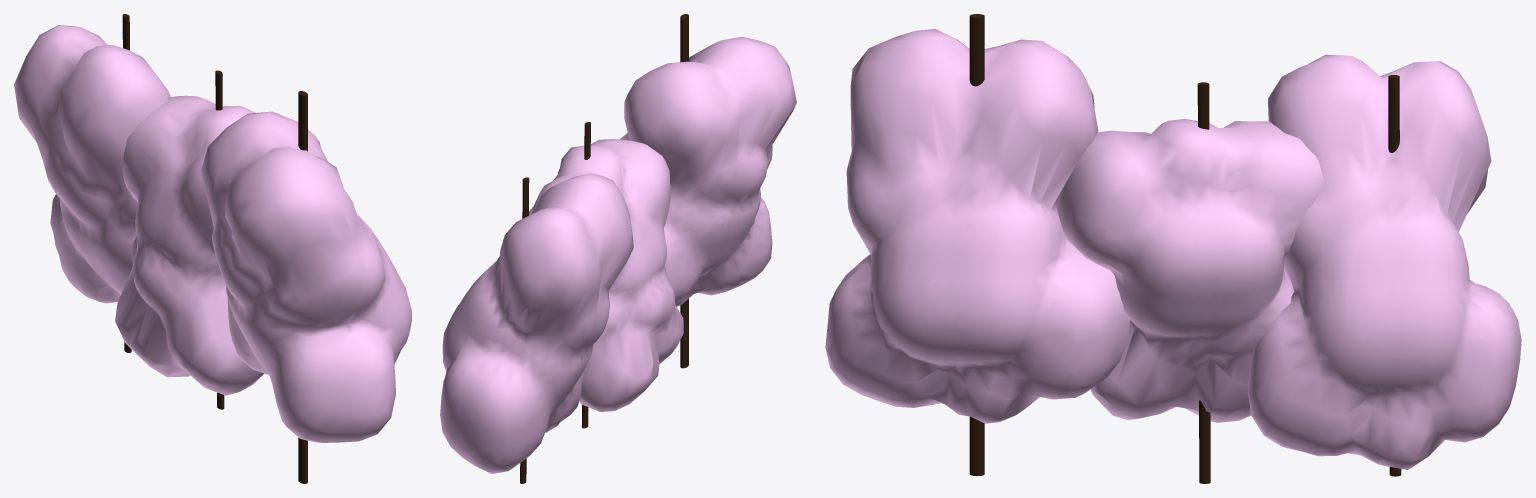
The model's file is Maze wall Jelly World.fbx.
3 renders of one model, left to right at view 1: azimuth 30°, elevation 25°; view 2: azimuth 150°, elevation 25°; view 3: azimuth 270°, elevation 25°, orthographic. The views are drawn at different scales.
Parts seen in each view (by area): view 1: polySurface8, polySurface13, polySurface12, polySurface9, polySurface10; view 2: polySurface12, polySurface8, polySurface13, polySurface9, polySurface11, polySurface10; view 3: polySurface8, polySurface12, polySurface13, polySurface9, polySurface10, polySurface11.
Boxes of the visible parts, x1,y1,x2,y2 form: polySurface8: [201, 111, 411, 442]; polySurface13: [115, 95, 263, 395]; polySurface12: [14, 25, 170, 303]; polySurface9: [298, 91, 307, 483]; polySurface10: [215, 70, 224, 409]; polySurface12: [440, 173, 633, 473]; polySurface8: [620, 36, 796, 306]; polySurface13: [529, 139, 683, 411]; polySurface9: [680, 14, 688, 368]; polySurface11: [520, 177, 529, 483]; polySurface10: [581, 122, 590, 428]; polySurface8: [825, 29, 1130, 423]; polySurface12: [1247, 54, 1521, 469]; polySurface13: [1057, 119, 1324, 422]; polySurface9: [969, 14, 984, 476]; polySurface10: [1197, 82, 1210, 483]; polySurface11: [1388, 75, 1401, 476].
Size of the model in its own units: 9.43 by 18.82 by 25.9.
